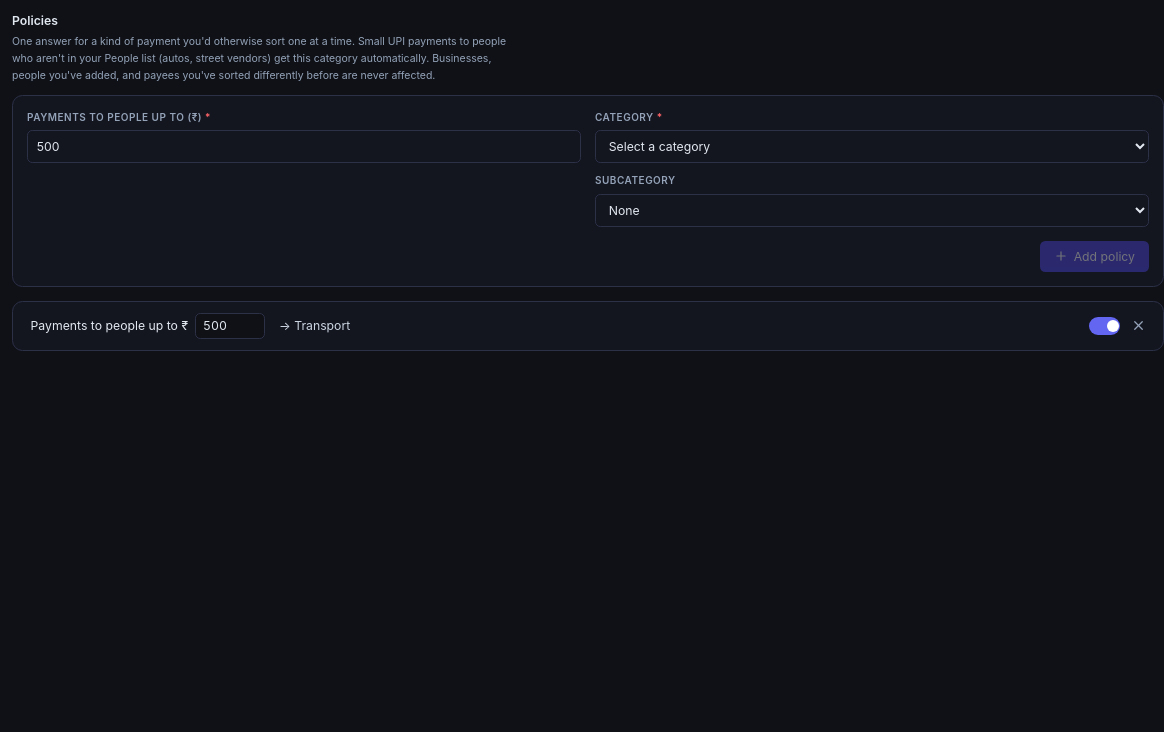
Scenario: policy limits and privacy mode › keeps the limit visible in the field and in its toast while amounts are hidden
The width and height of the screenshot is (1164, 732).
Replace the text in the number field named "Amount limit" with "700". click: (230,326)
box: [195,313,265,339]
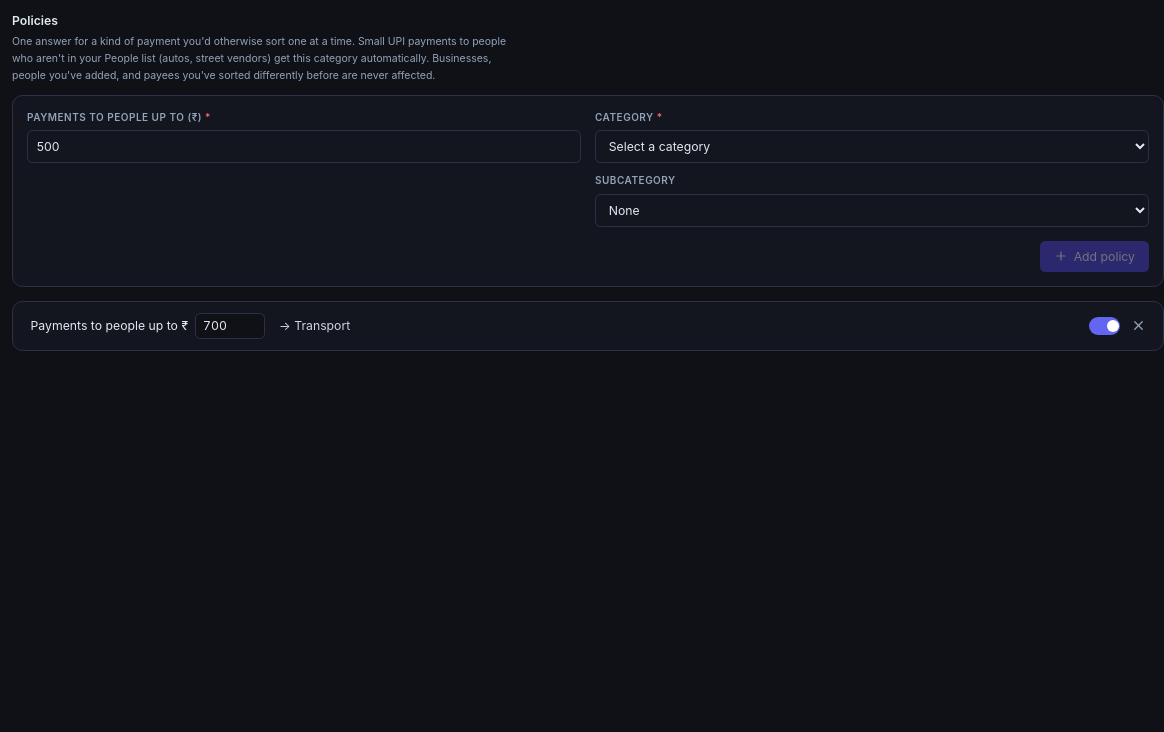
Leave the number field named "Amount limit", box [195,313,265,339]
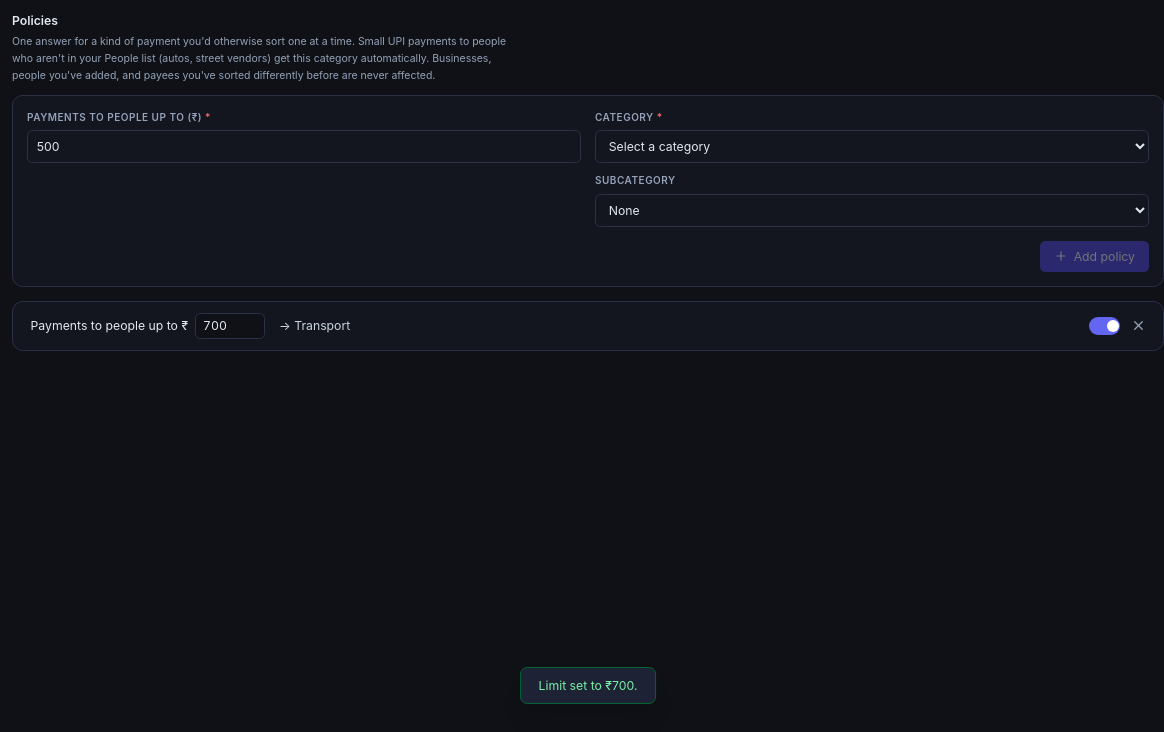
Now the text "Limit set to ₹700." is shown, box [539,677,637,694]
